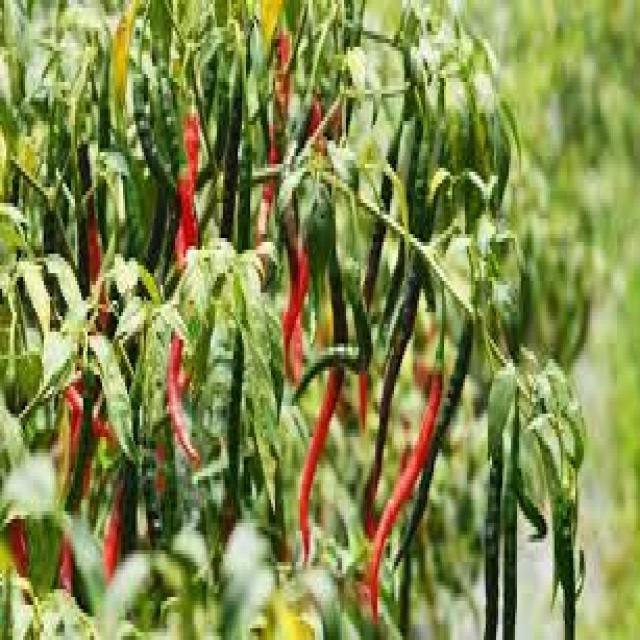sehat: (298, 184, 334, 344), (479, 353, 524, 479)
